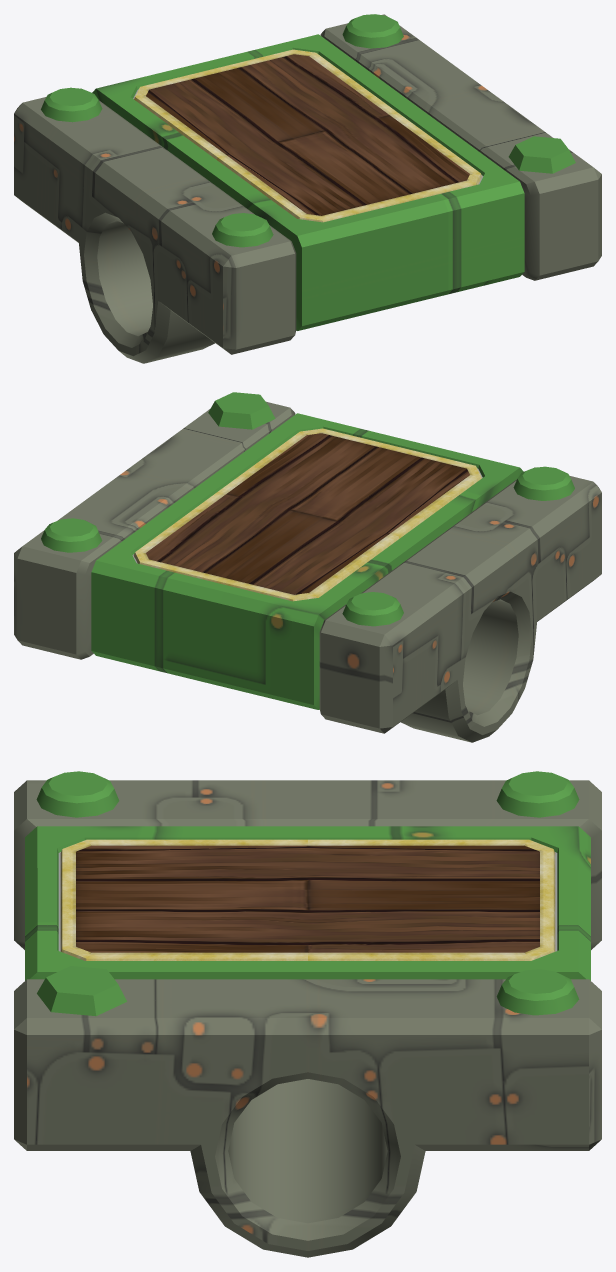
The model's file is Env_Cnt_Plat.fbx.
3 views of the same model, one above another, from view 1: azimuth 30°, elevation 25°; view 2: azimuth 150°, elevation 25°; view 3: azimuth 270°, elevation 25° (orthographic). The views are drawn at different scales.
Visible parts, largest first — view 1: Plat_LP; view 2: Plat_LP; view 3: Plat_LP.
Boxes of the visible parts, box(x1,y1,x2,y2) form: Plat_LP: box(14, 14, 601, 363); Plat_LP: box(14, 392, 601, 742); Plat_LP: box(14, 771, 601, 1257).
Bounding box in the file's own units: 100 × 48.17 × 100.
